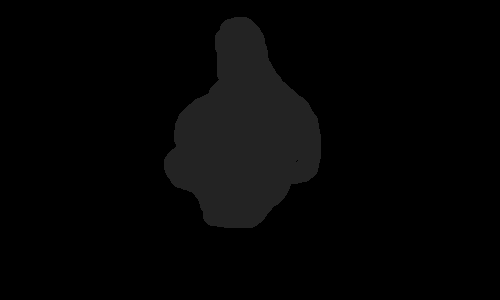toy: (164, 19, 326, 235)
